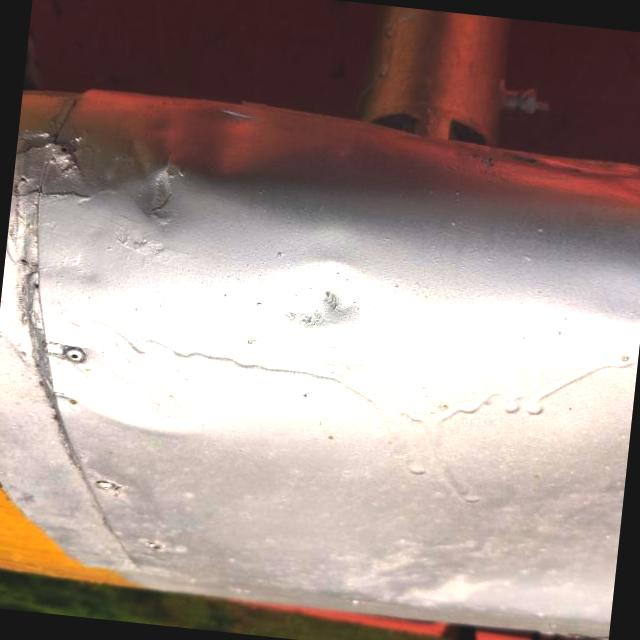dent: (104, 70, 286, 252), (250, 222, 406, 373)
